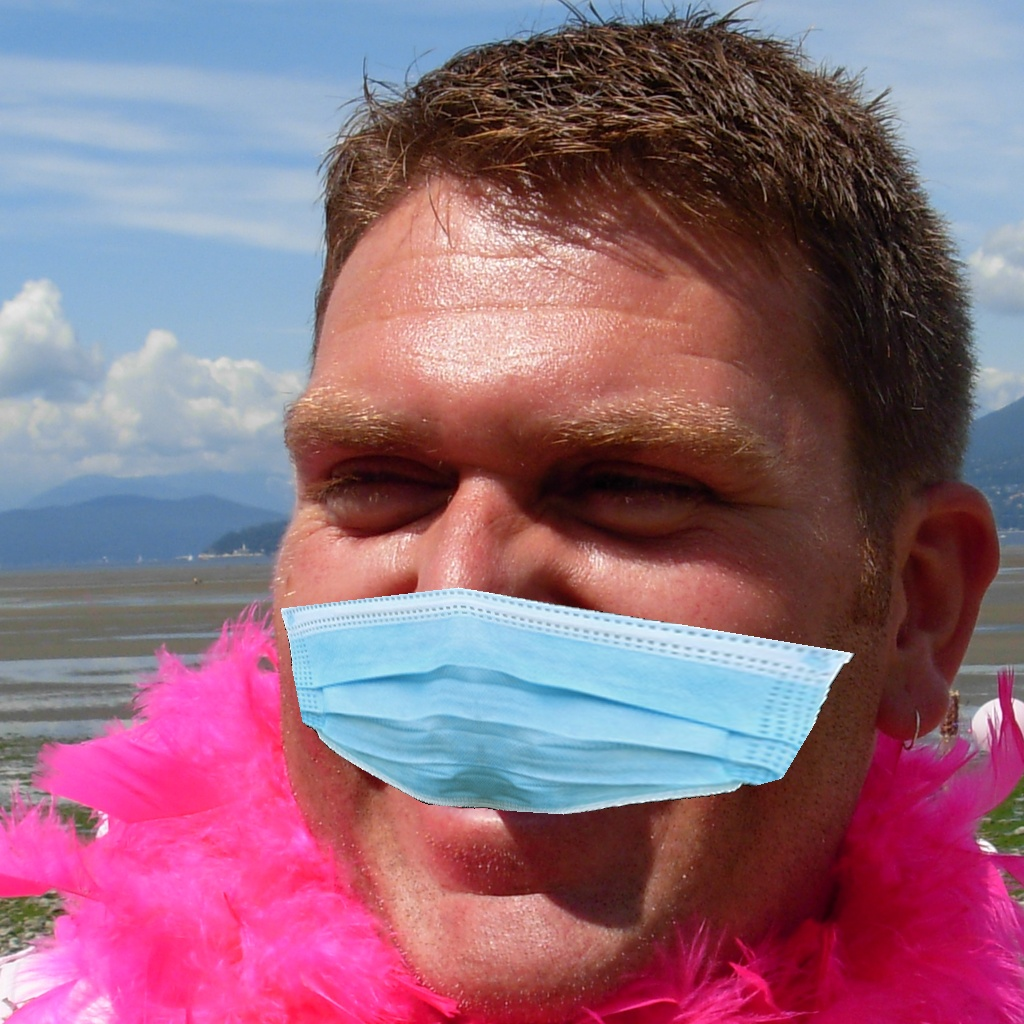mascarilla_mal_puesta: (233, 320, 891, 973)
